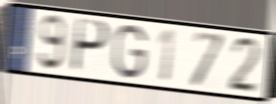1: (156, 26, 176, 85)
2: (227, 36, 264, 96)
7: (190, 30, 226, 90)
9: (37, 13, 68, 74)
G: (111, 23, 148, 81)
P: (69, 16, 111, 76)
